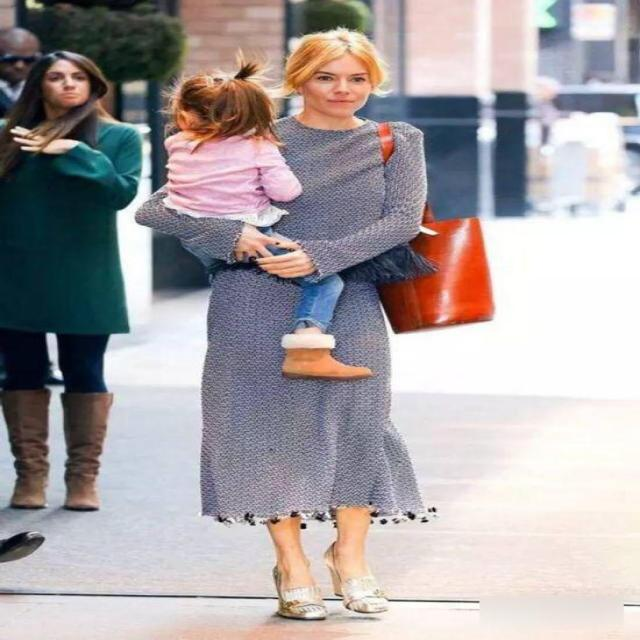obstacle: (192, 8, 419, 618), (3, 46, 146, 537)
